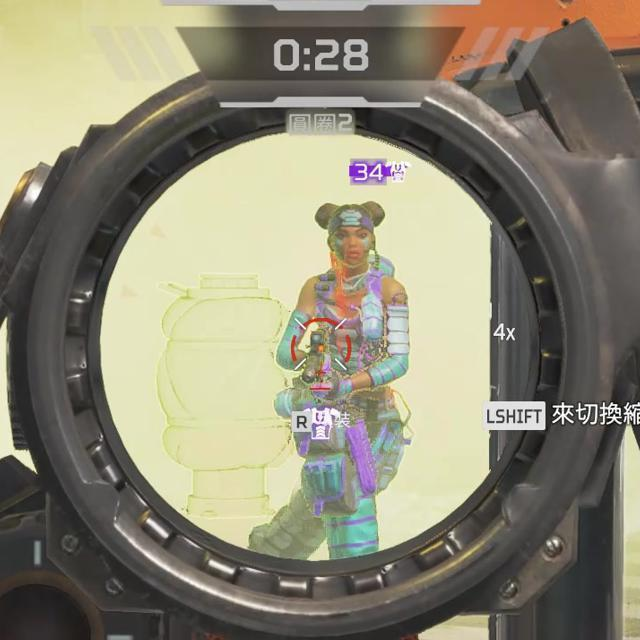avatar: (262, 199, 412, 560)
